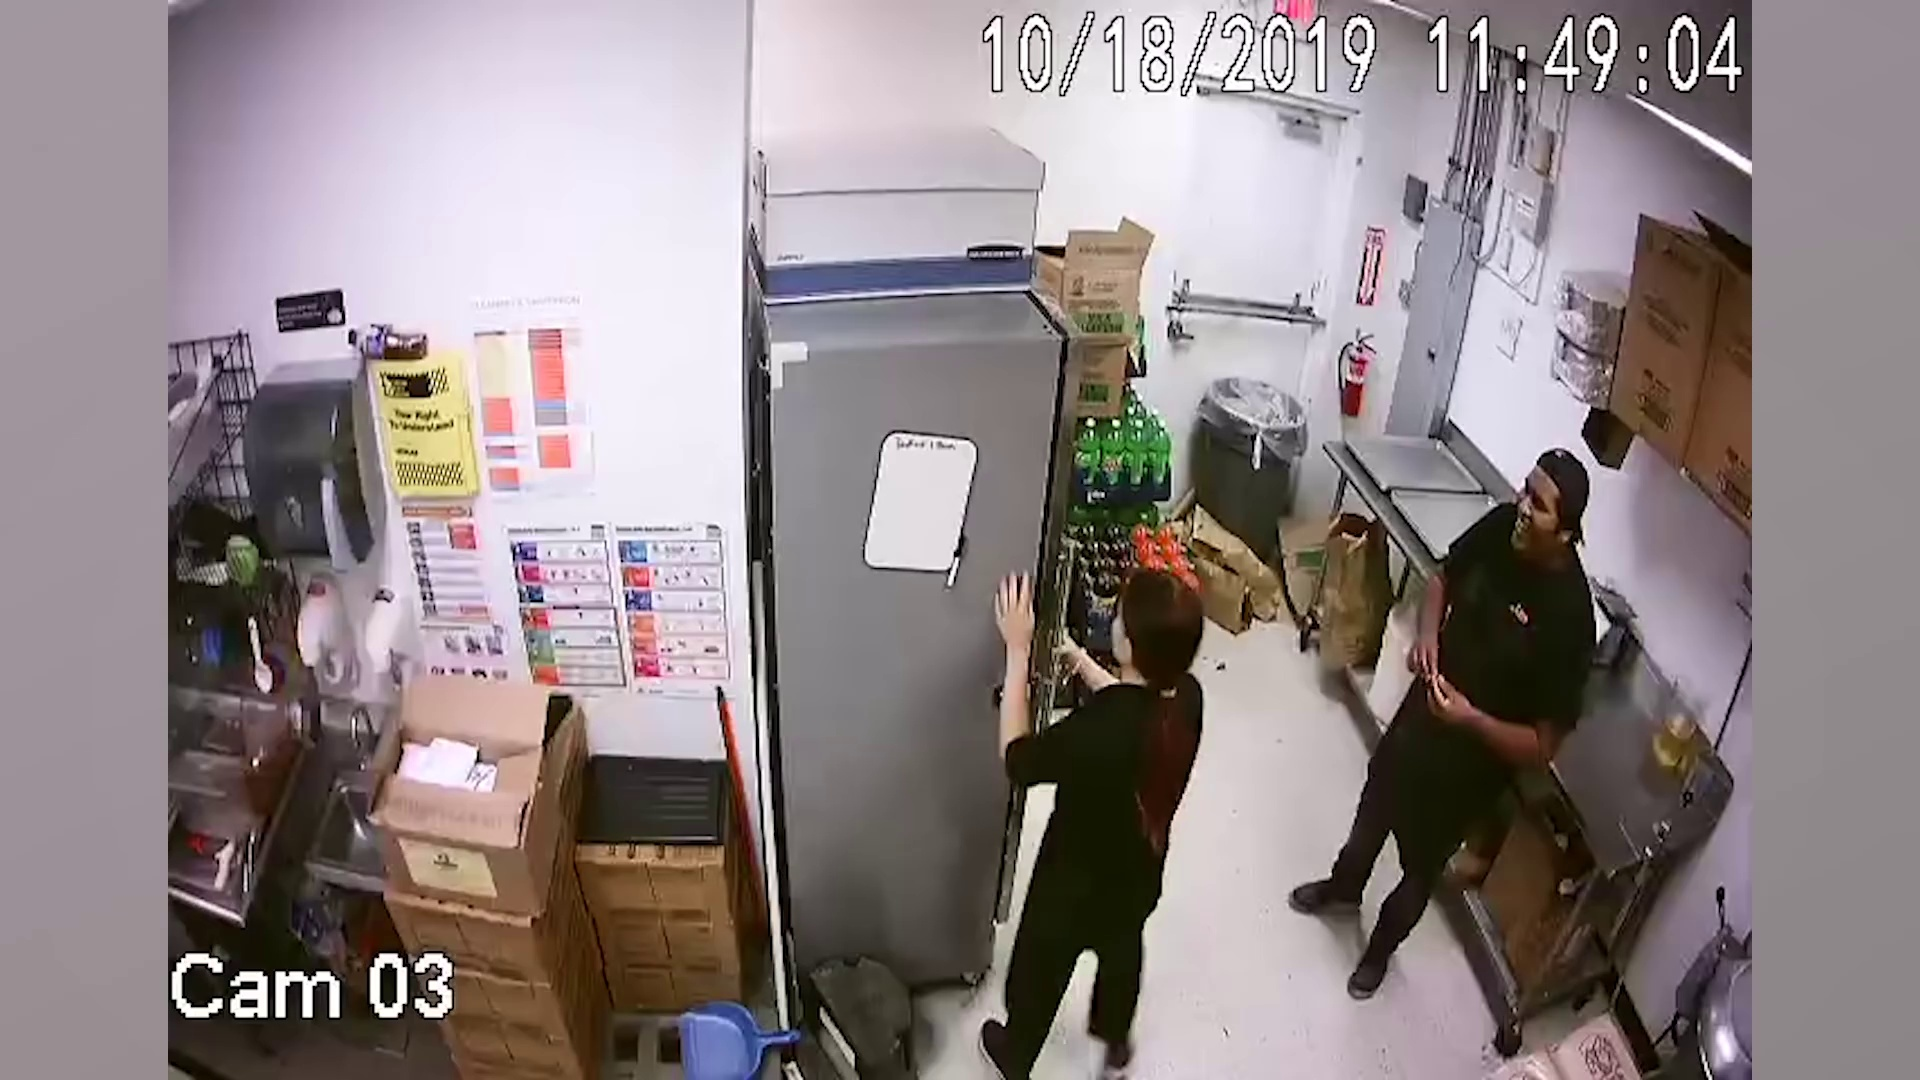face: (1508, 482, 1567, 556)
